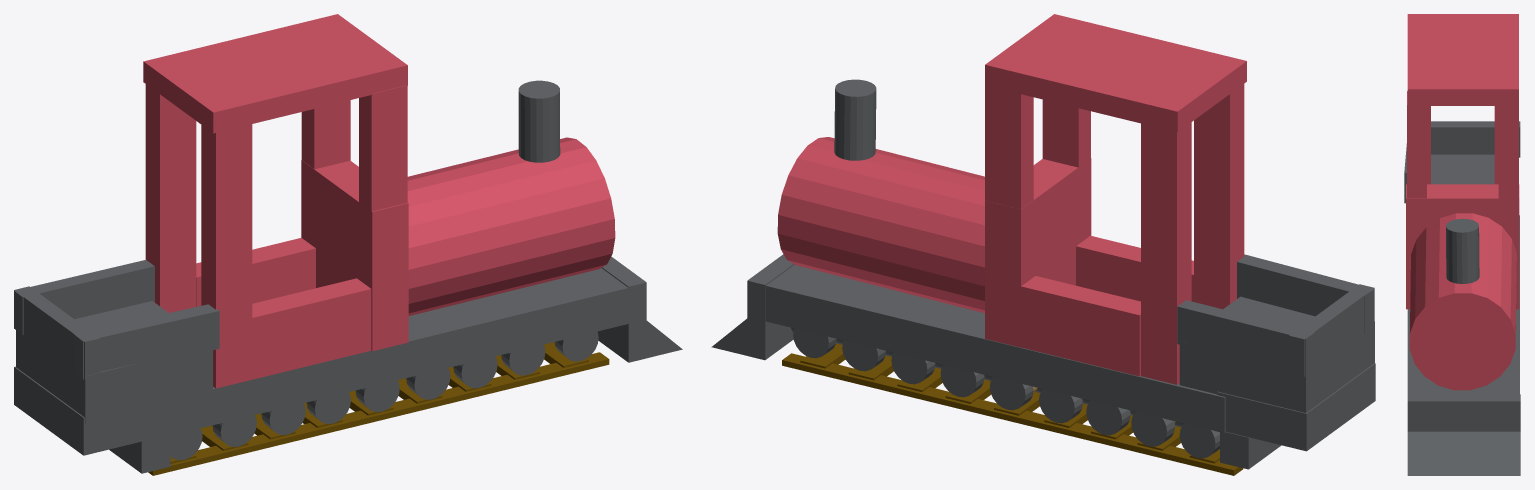
The model's file is Train.glb.
3 views of the same model, side by side, from view 1: azimuth 30°, elevation 25°; view 2: azimuth 150°, elevation 25°; view 3: azimuth 270°, elevation 25° (orthographic). The views are drawn at different scales.
Visible parts, largest first — view 1: Mesh_Mesh_head_geo.001_lambert2SG.001; view 2: Mesh_Mesh_head_geo.001_lambert2SG.001; view 3: Mesh_Mesh_head_geo.001_lambert2SG.001.
Part boxes in pixels (x1,y1,x2,y2): Mesh_Mesh_head_geo.001_lambert2SG.001: (14,14,682,475); Mesh_Mesh_head_geo.001_lambert2SG.001: (711,14,1375,475); Mesh_Mesh_head_geo.001_lambert2SG.001: (1404,14,1520,475).
Bounding box in the file's own units: 331 × 189 × 70.
